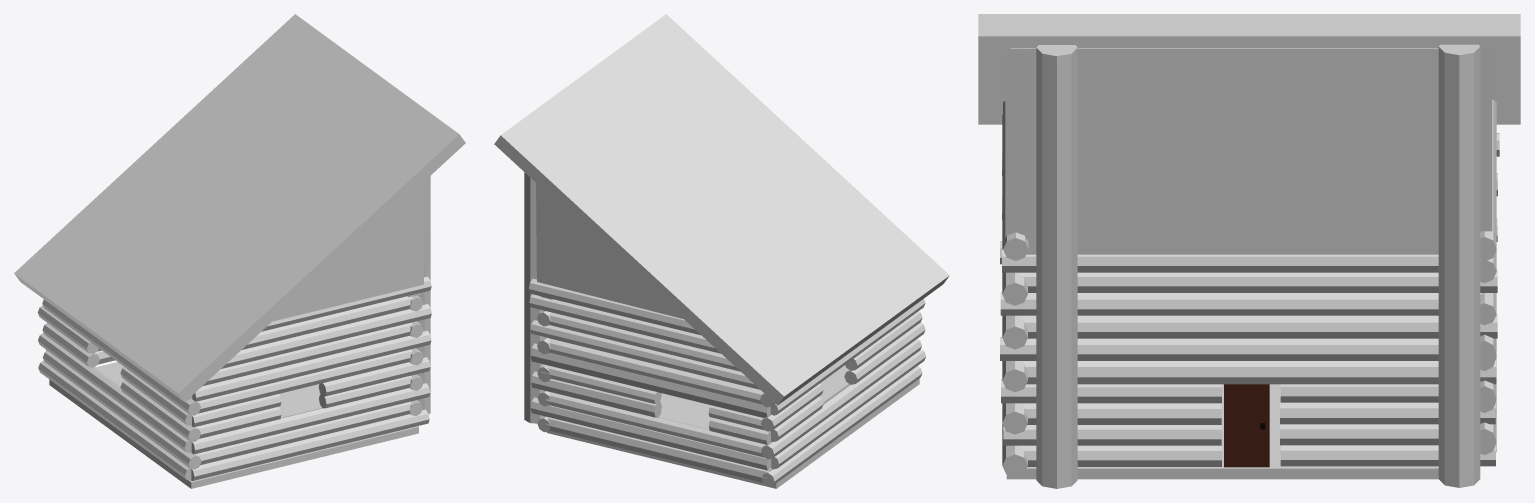
The model's file is CabinandDoor.fbx.
3 renders of one model, left to right at view 1: azimuth 30°, elevation 25°; view 2: azimuth 150°, elevation 25°; view 3: azimuth 270°, elevation 25°, orthographic. The views are drawn at different scales.
Visible parts, largest first — view 1: Cabin, floor; view 2: Cabin, floor; view 3: Cabin, floor, Door.
Part boxes in pixels (x1,y1,x2,y2): Cabin: [14, 14, 465, 480]; floor: [49, 362, 418, 488]; Cabin: [494, 14, 949, 486]; floor: [546, 365, 919, 488]; Cabin: [978, 14, 1520, 488]; floor: [1006, 384, 1438, 479]; Door: [1224, 384, 1269, 467].
Size of the model in its own units: 26.39 by 26.09 by 26.1.
